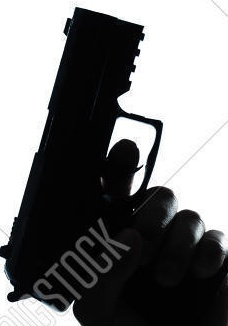pistol: (2, 6, 177, 305)
